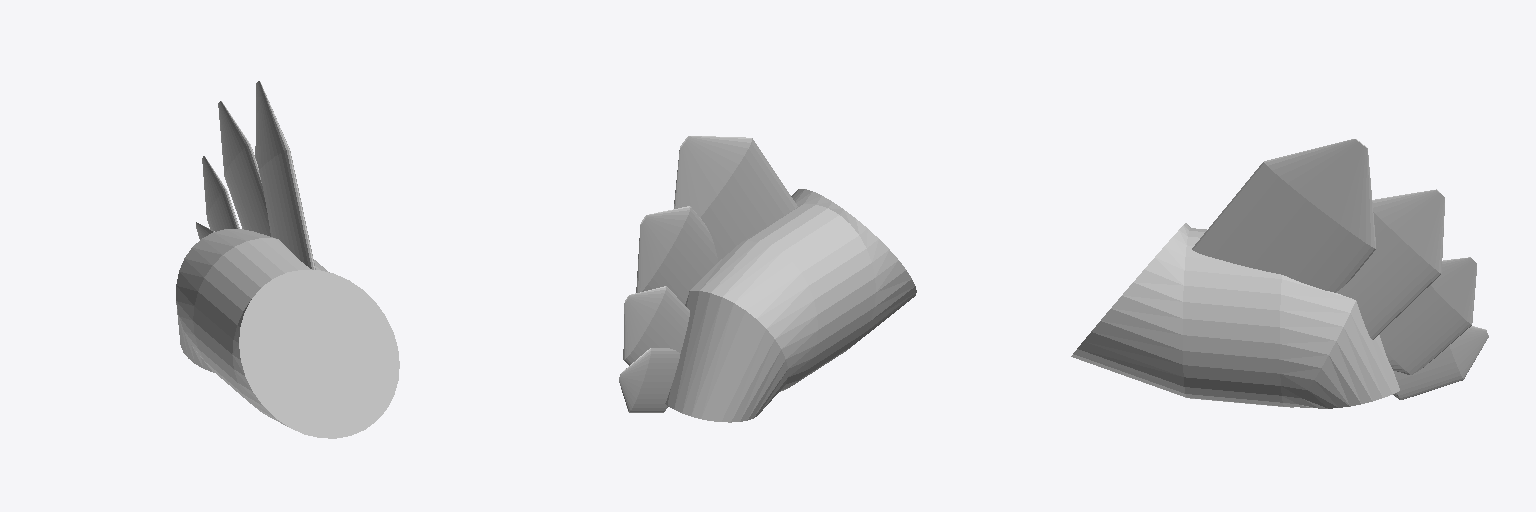
Rendered from LBsune.obj.
3 renders of one model, left to right at view 1: azimuth 30°, elevation 25°; view 2: azimuth 150°, elevation 25°; view 3: azimuth 270°, elevation 25°, orthographic.
Parts seen in each view (by area): view 1: 後ろ足.002; view 2: 後ろ足.002; view 3: 後ろ足.002.
Part boxes in pixels (bbox=[...]): 後ろ足.002: bbox=[176, 81, 399, 438]; 後ろ足.002: bbox=[619, 136, 916, 422]; 後ろ足.002: bbox=[1071, 139, 1488, 408].
Bounding box in the file's own units: 0.4292 × 0.73 × 1.